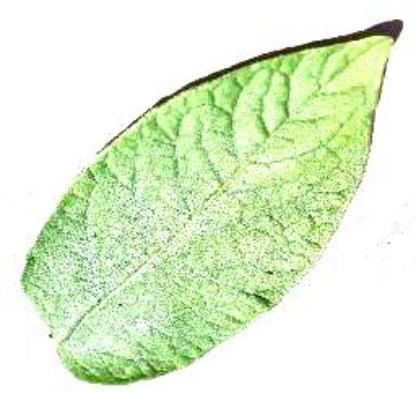Healthy-plant: (19, 27, 400, 387)
